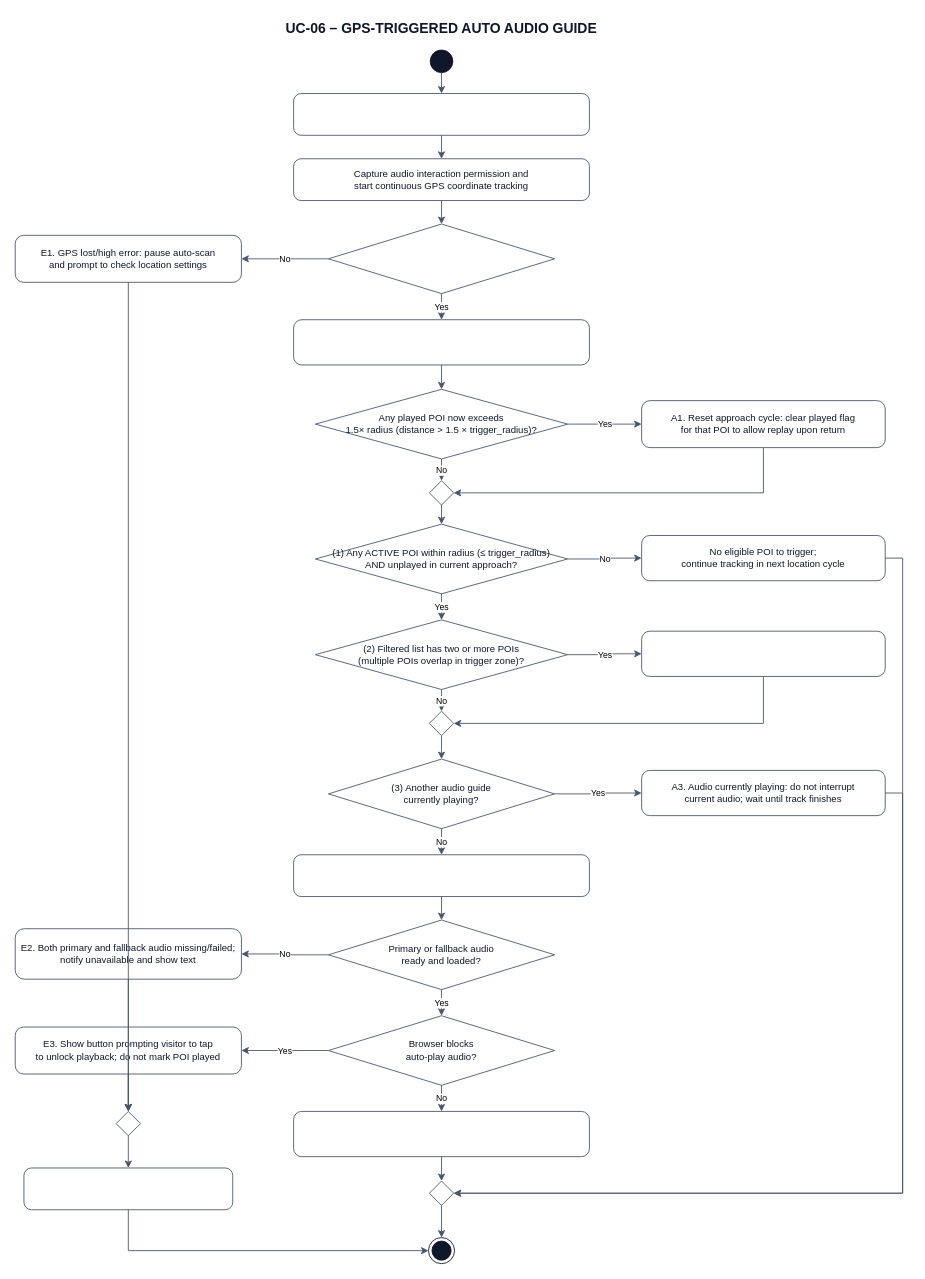
Some shapes in this 925 by 1279 pixel diagram are drawn without their labels. The shapes that lost their labels are listed below. From the top down, each one's centre as x and y in pixels, then its label:
(x=441, y=114): Visitor taps "Start Tour" button on map control bar
(x=441, y=258): Valid GPS coordinates received?
(x=441, y=342): Compute Haversine distance from visitor to ACTIVE POIs in bundle
(x=763, y=653): A2. Skip played or overlapping POIs: prioritize only the nearest unplayed POI
(x=441, y=875): Auto-play audio in current language or fallback audio (English / Vietnamese)
(x=441, y=1134): Audio playback started successfully; mark POI as played in current approach
(x=128, y=1188): No auto-playback in this cycle
